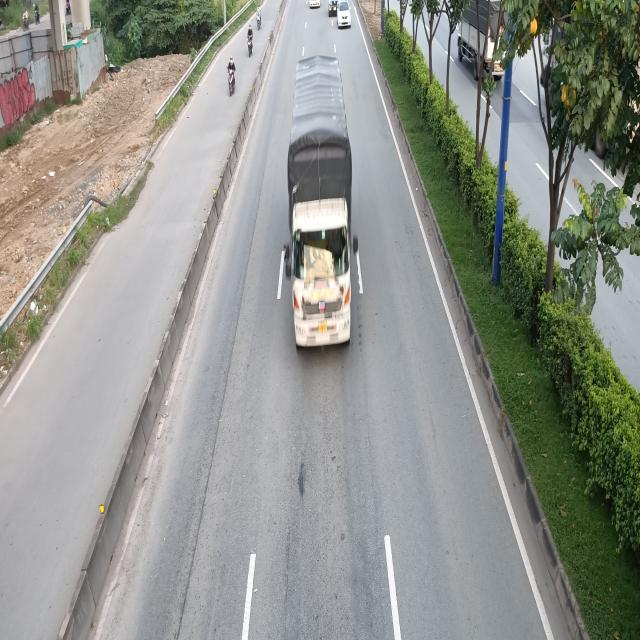car: (337, 0, 352, 28)
truck: (284, 52, 358, 351)
